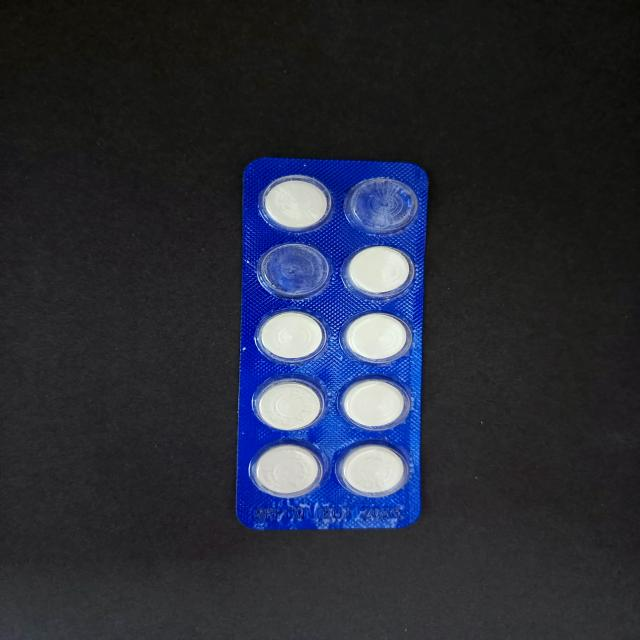defect: (343, 171, 422, 237), (255, 240, 334, 302)
